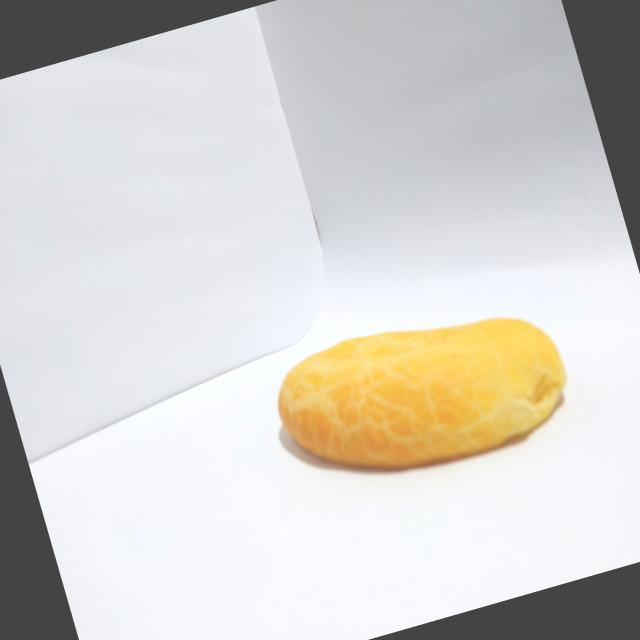Chipa: (248, 269, 594, 524)
